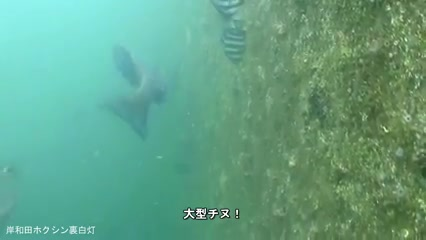ishidai: (220, 19, 249, 69)
